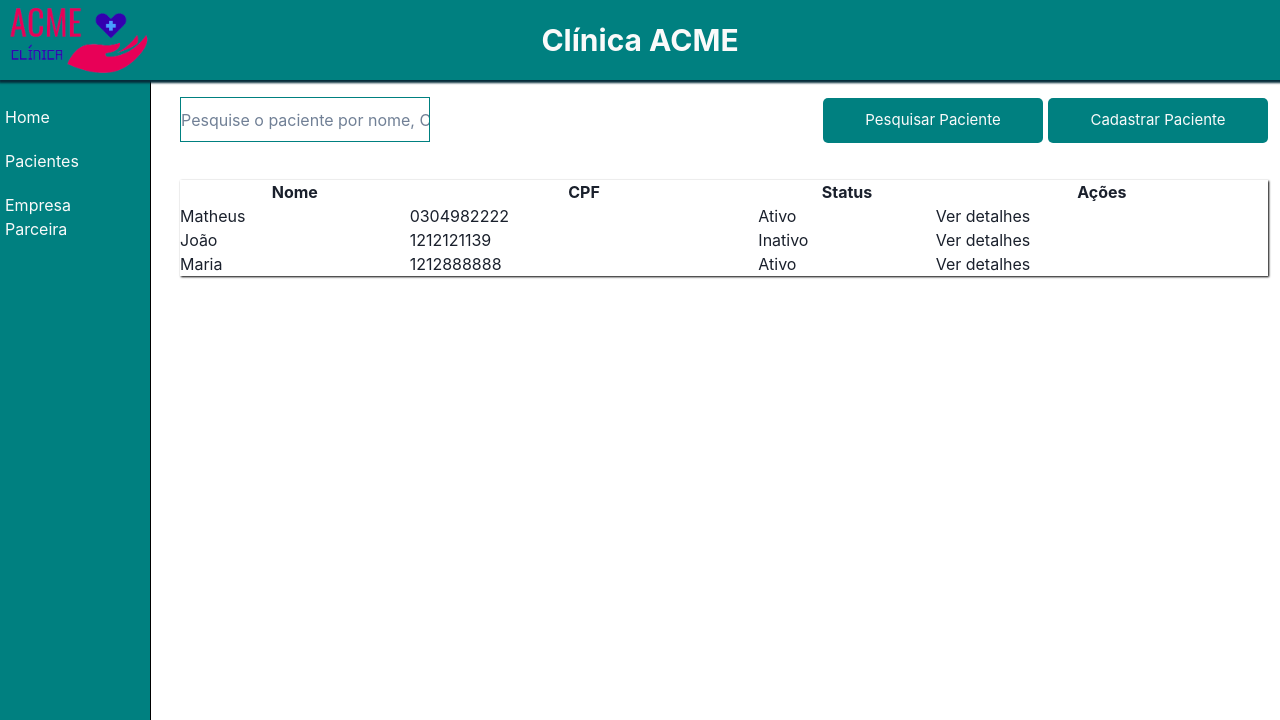
Test: Testa se é possível filtrar os pacientes por nome, cpf e status através do input na função handleClickFilter › Se é possível filtrar os pacientes por status
Type "Ativo" into the field with test id "search-input" at (305, 120), box [180, 97, 430, 142]
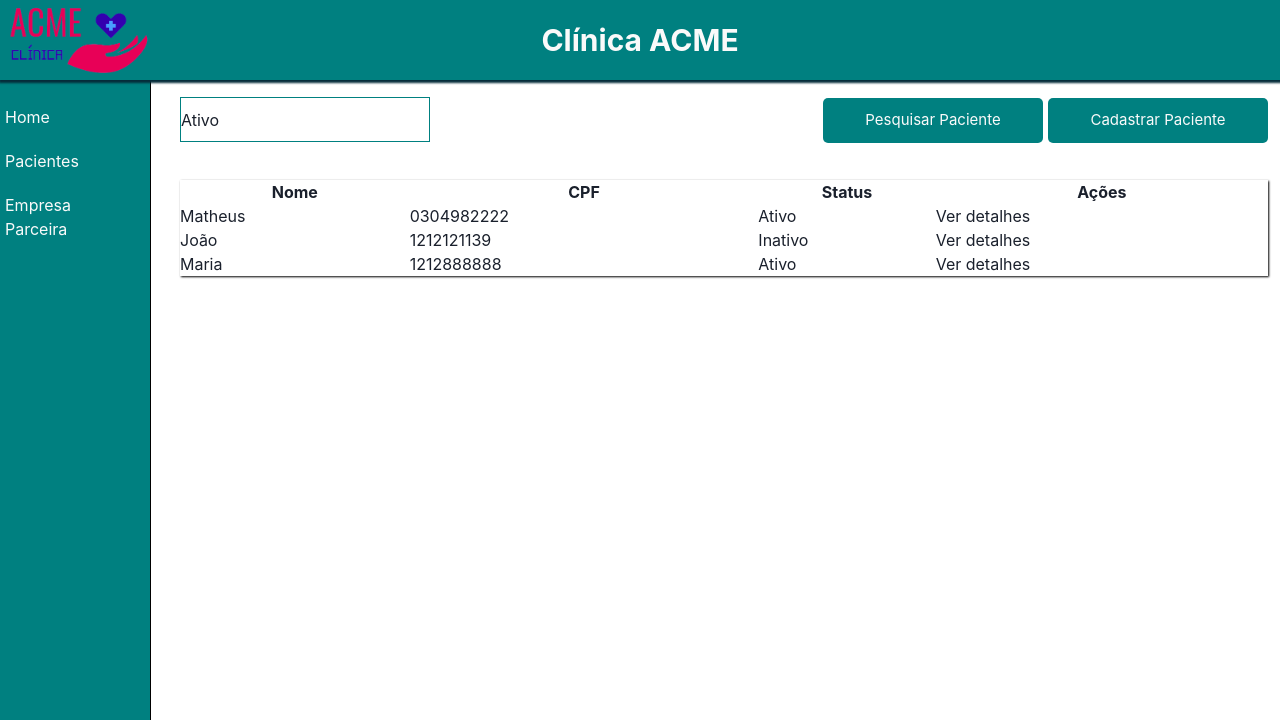
Click the button with test id "btn-search" at (933, 120), box [823, 98, 1043, 142]
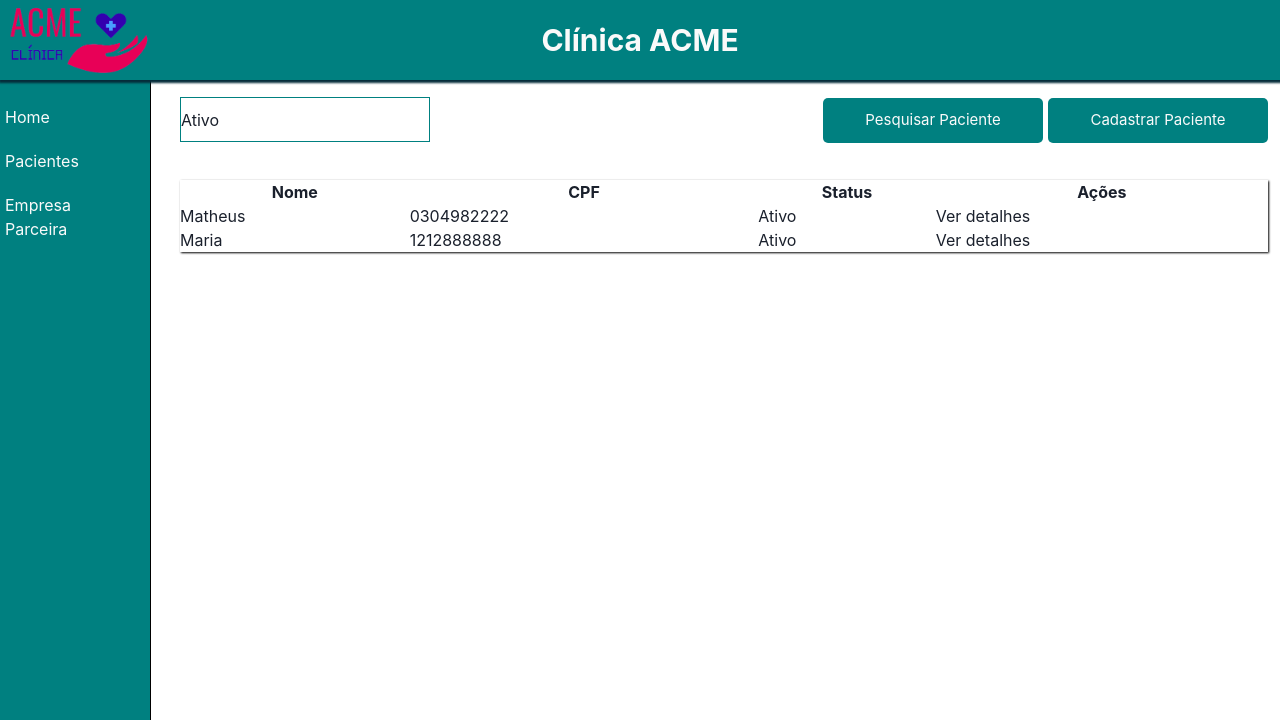
Expected: the cell "Ativo" in the row of "Matheus" is shown, [758, 206, 796, 226]
Replace the text in the field with test id "search-input" with "Inativo" at (305, 120), box [180, 97, 430, 142]
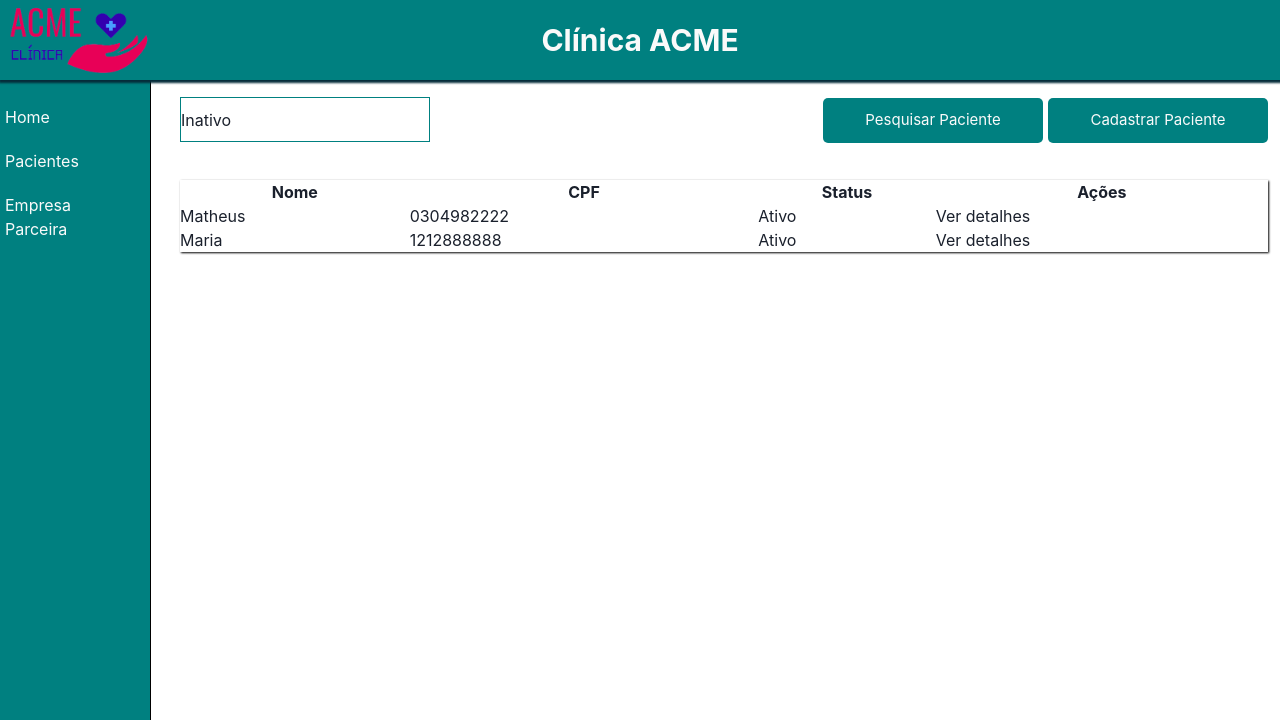
Click the button with test id "btn-search" at (933, 120), box [823, 98, 1043, 142]
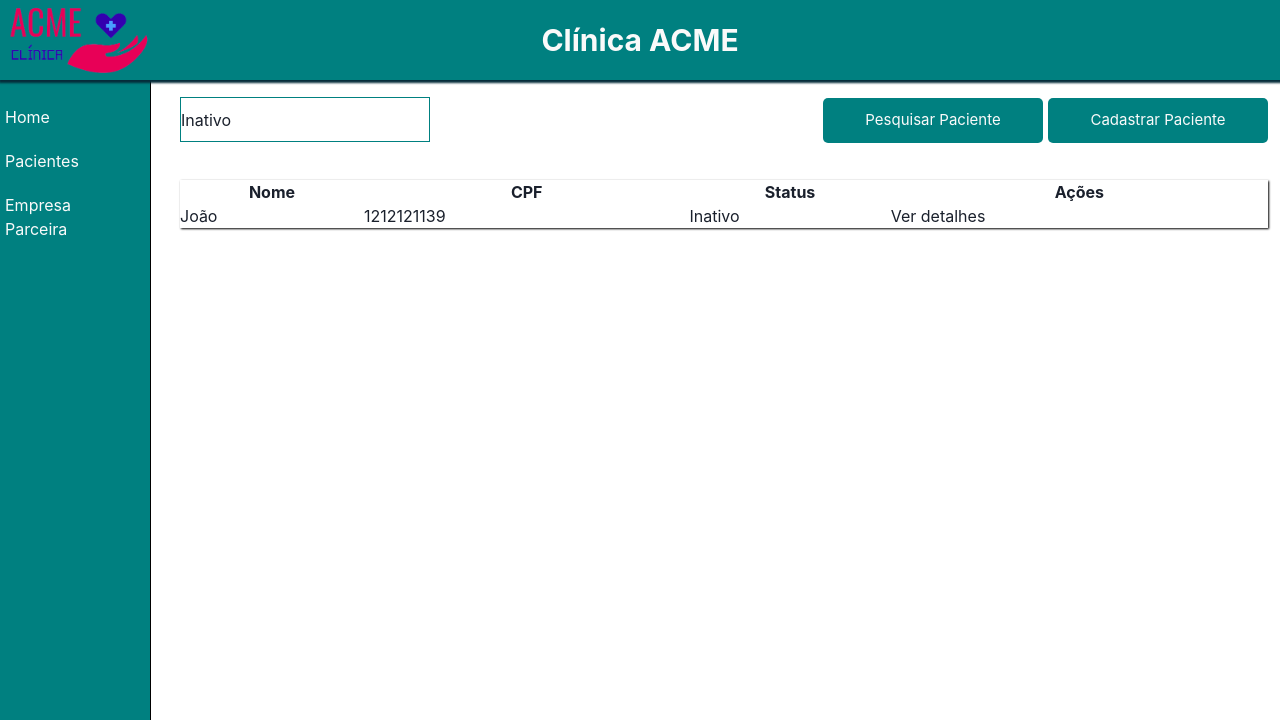
Expected: the cell "Inativo" is shown, [689, 204, 891, 228]
Replace the text in the field with test id "search-input" with "Ativo" at (305, 120), box [180, 97, 430, 142]
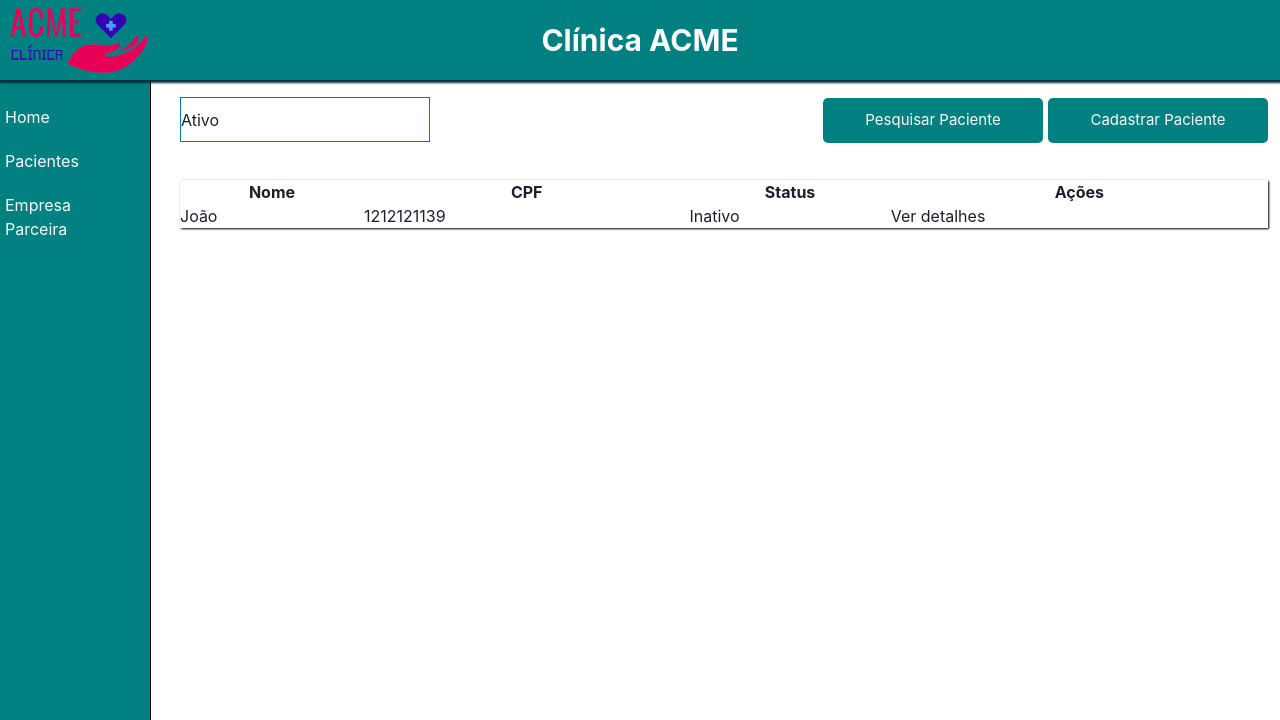
Click the button with test id "btn-search" at (933, 120), box [823, 98, 1043, 142]
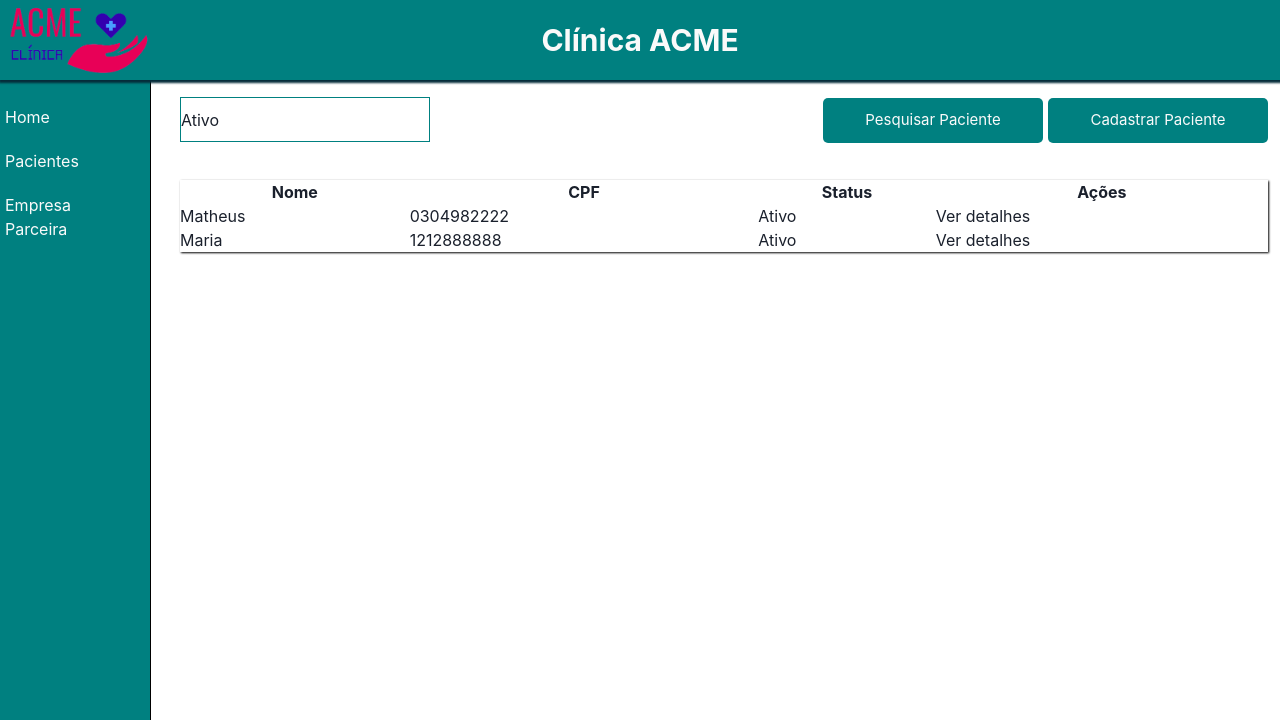
Expected: the cell "Ativo" in the row of "Matheus" is shown, [758, 206, 796, 226]
